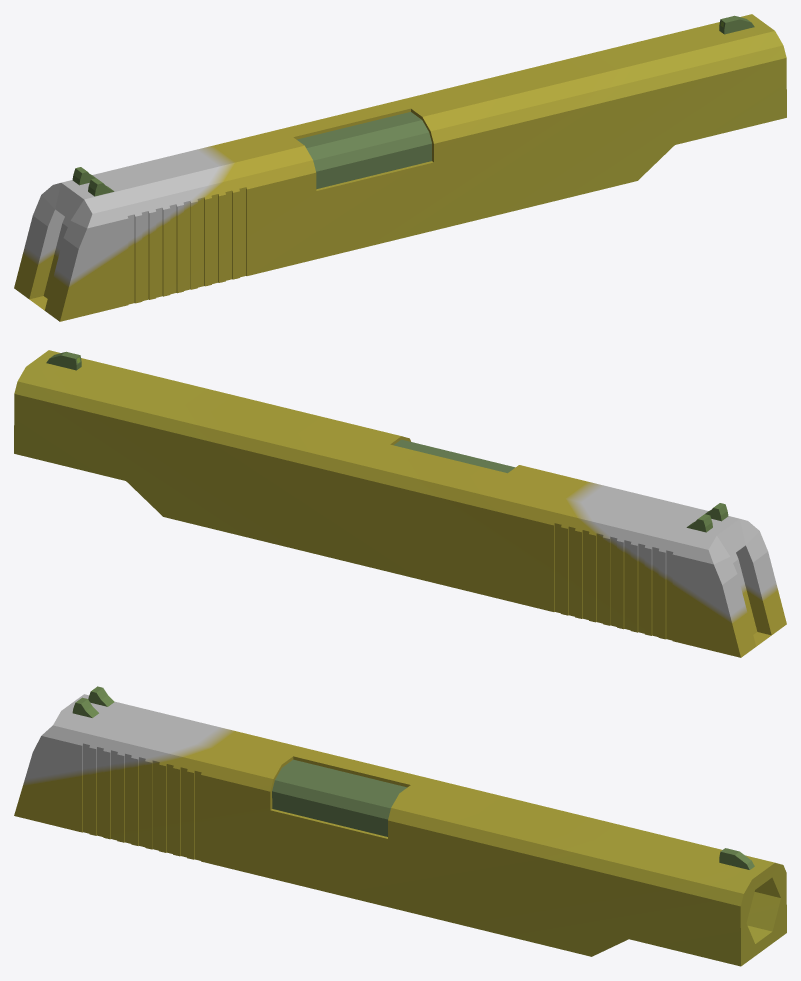
The model's file is Pistol2_04_2.fbx.
3 renders of one model, top to bottom at view 1: azimuth 30°, elevation 25°; view 2: azimuth 150°, elevation 25°; view 3: azimuth 330°, elevation 25°, orthographic.
Visible parts, largest first — view 1: Pistol2_04_2; view 2: Pistol2_04_2; view 3: Pistol2_04_2.
Part boxes in pixels (x1,y1,x2,y2): Pistol2_04_2: [14, 14, 786, 321]; Pistol2_04_2: [14, 350, 786, 657]; Pistol2_04_2: [14, 686, 786, 966].
Size of the model in its own units: 0.225 by 0.0345 by 0.0246.
